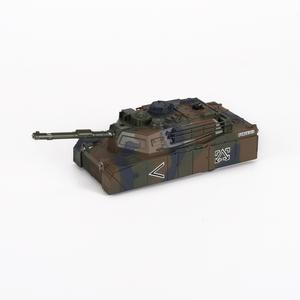Battle Tank: (29, 93, 265, 192)
